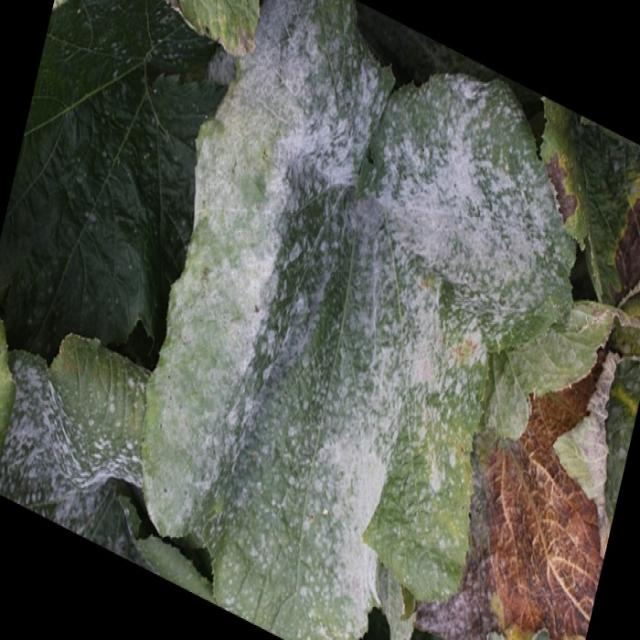Powdery Mildew: (2, 1, 637, 638)
